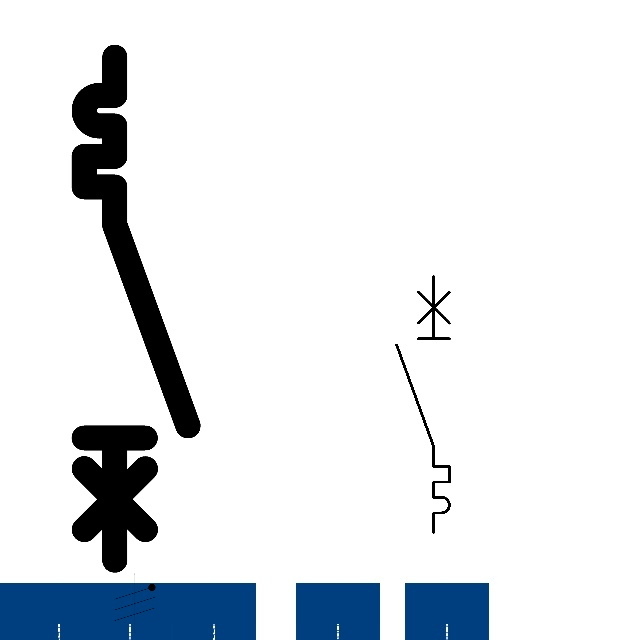interruptor_termomagnetico: (71, 44, 200, 573), (390, 270, 456, 539)
